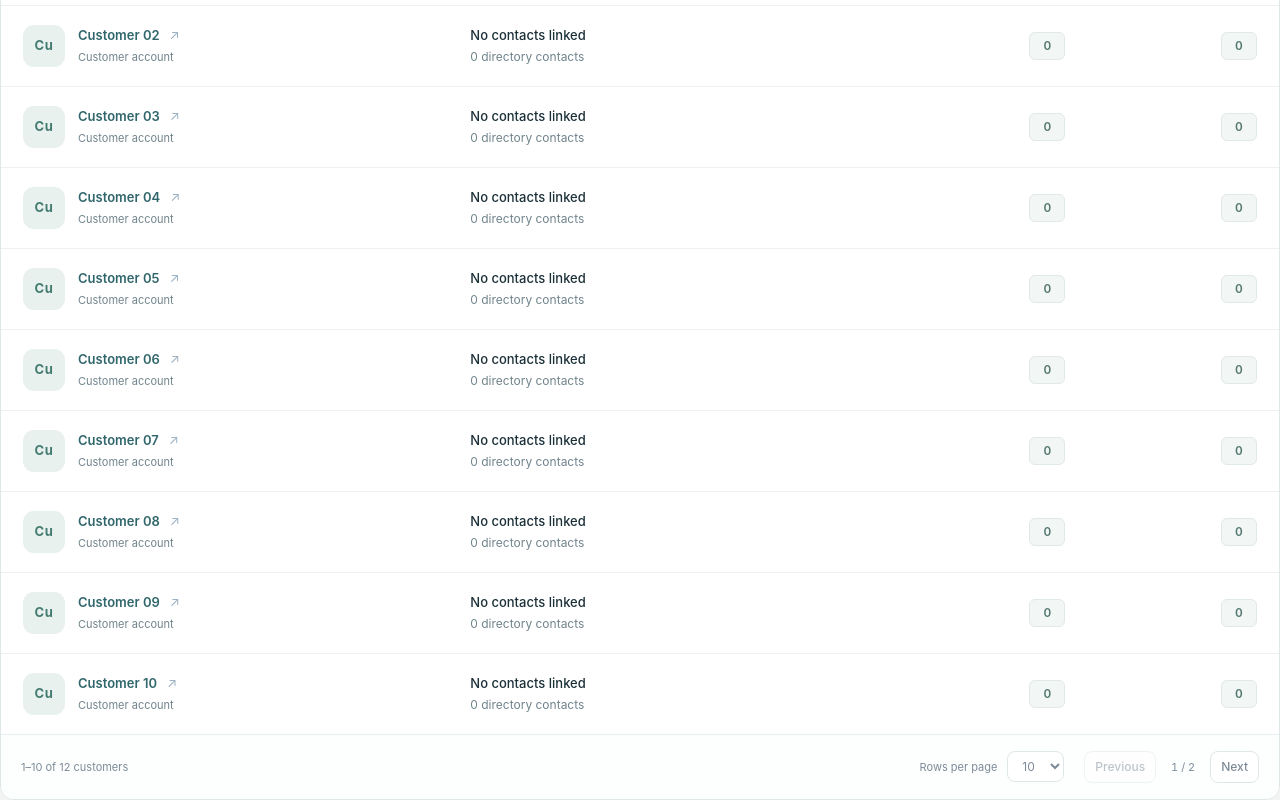
Test: Customers list › paginates, sorts, searches and opens customer information
Later steps or results of the test are not shown.
(page scrolled)
Expected: the button "Customer 11" is not shown
Click the button "Next" at (1235, 767), box x1=1210 y1=751 x2=1259 y2=783
(page scrolled)
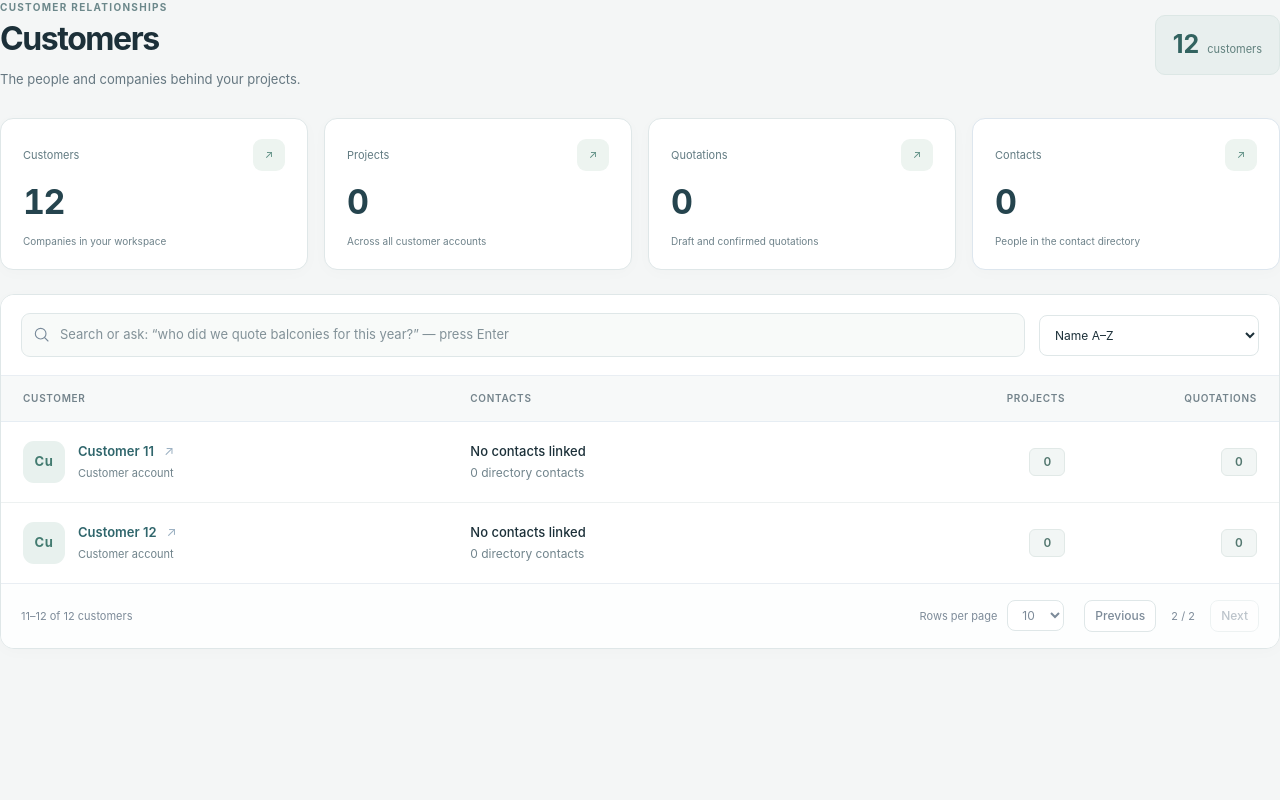
Expected: the button "Customer 11↗" is shown, x1=78 y1=442 x2=174 y2=462
Select "Name Z–A" in the dropdown named "Sort customers" at (1149, 335), box x1=1039 y1=315 x2=1259 y2=356
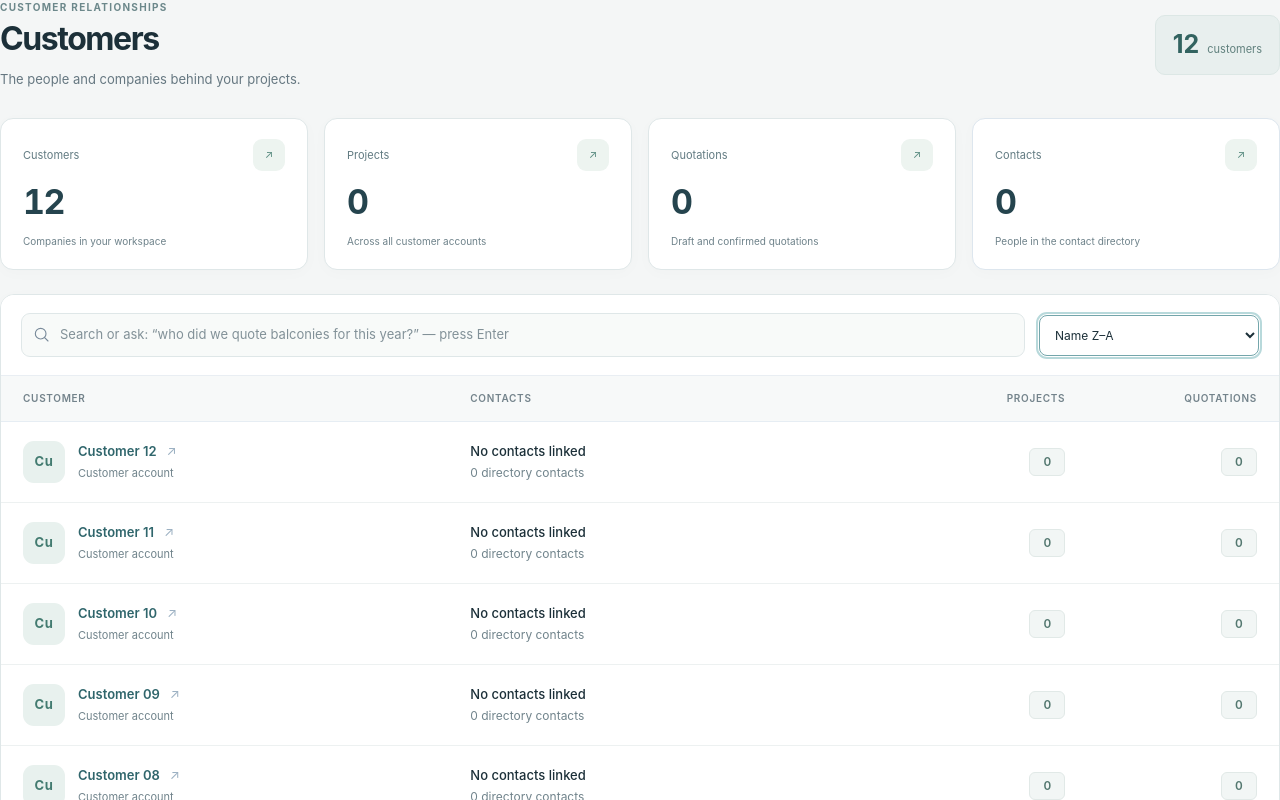
Expected: the button "Customer 12↗" is shown, x1=78 y1=442 x2=177 y2=462
Type "Customer 02" into the field named "Search customers" at (536, 335), box x1=60 y1=314 x2=1012 y2=356
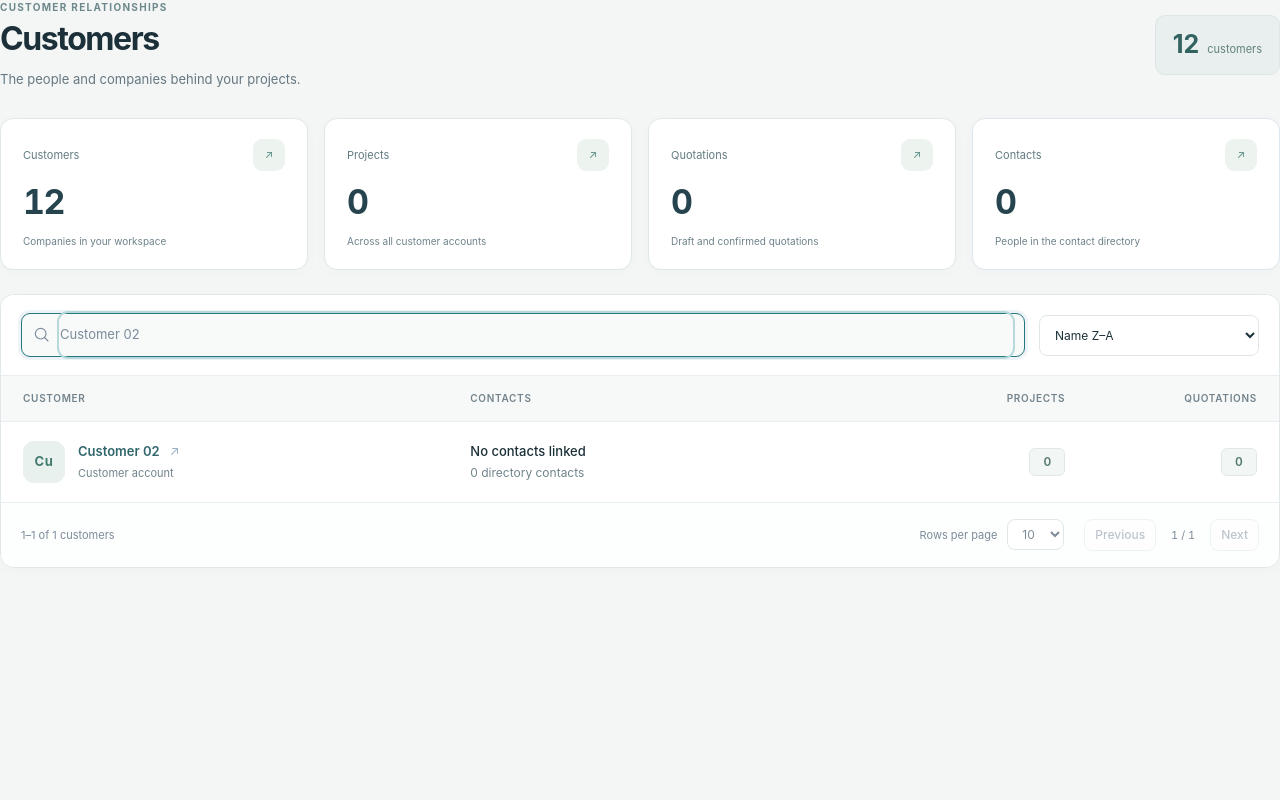
Expected: the button "Customer 02↗" is shown, x1=78 y1=442 x2=180 y2=462
Expected: the button "Customer 12" is gone
